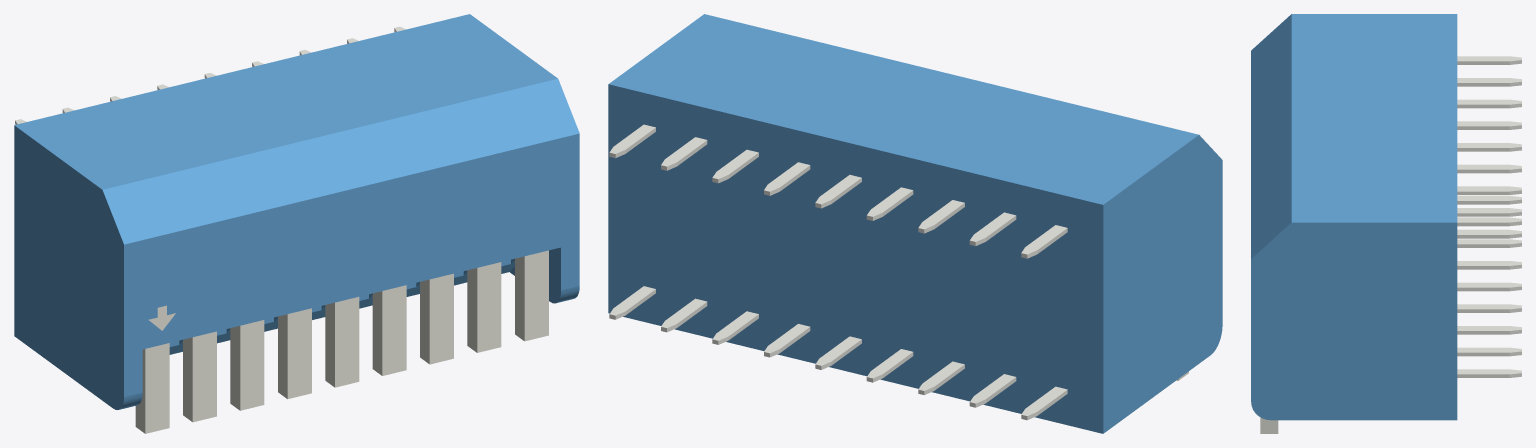
File: SW_DIP_SPSTx09_Piano_10.8x24.42mm_W7.62mm_P2.54mm.glb
3 views of the same model, side by side, from view 1: azimuth 30°, elevation 25°; view 2: azimuth 150°, elevation 25°; view 3: azimuth 270°, elevation 25° (orthographic). The views are drawn at different scales.
Parts seen in each view (by area): view 1: Shape_IndexedFaceSet.001, Shape_IndexedFaceSet.005, Shape_IndexedFaceSet.003, Shape_IndexedFaceSet.008, Shape_IndexedFaceSet.109, Shape_IndexedFaceSet.119, Shape_IndexedFaceSet.129, Shape_IndexedFaceSet.112, Shape_IndexedFaceSet.122, Shape_IndexedFaceSet.089, Shape_IndexedFaceSet.092, Shape_IndexedFaceSet.099 (+11 smaller); view 2: Shape_IndexedFaceSet.006, Shape_IndexedFaceSet.005, Shape_IndexedFaceSet.008; view 3: Shape_IndexedFaceSet, Shape_IndexedFaceSet.005, Shape_IndexedFaceSet.003, Shape_IndexedFaceSet.019, Shape_IndexedFaceSet.031, Shape_IndexedFaceSet.047, Shape_IndexedFaceSet.057, Shape_IndexedFaceSet.073, Shape_IndexedFaceSet.027, Shape_IndexedFaceSet.037, Shape_IndexedFaceSet.065, Shape_IndexedFaceSet.079 (+10 smaller).
Boxes of the visible parts, x1,y1,x2,y2 form: Shape_IndexedFaceSet.001: [124, 133, 579, 396]; Shape_IndexedFaceSet.005: [14, 14, 557, 189]; Shape_IndexedFaceSet.003: [102, 79, 579, 244]; Shape_IndexedFaceSet.008: [14, 125, 123, 409]; Shape_IndexedFaceSet.109: [429, 273, 453, 364]; Shape_IndexedFaceSet.119: [382, 285, 406, 375]; Shape_IndexedFaceSet.129: [335, 297, 359, 387]; Shape_IndexedFaceSet.112: [240, 320, 264, 410]; Shape_IndexedFaceSet.122: [287, 308, 311, 398]; Shape_IndexedFaceSet.089: [524, 250, 548, 341]; Shape_IndexedFaceSet.092: [145, 343, 169, 433]; Shape_IndexedFaceSet.099: [477, 262, 501, 352]; Shape_IndexedFaceSet.006: [608, 84, 1103, 433]; Shape_IndexedFaceSet.005: [608, 14, 1198, 204]; Shape_IndexedFaceSet.008: [1103, 135, 1222, 433]; Shape_IndexedFaceSet: [1251, 222, 1457, 420]; Shape_IndexedFaceSet.005: [1291, 14, 1457, 222]; Shape_IndexedFaceSet.003: [1251, 14, 1291, 258]; Shape_IndexedFaceSet.019: [1457, 282, 1521, 287]; Shape_IndexedFaceSet.031: [1457, 369, 1521, 374]; Shape_IndexedFaceSet.047: [1457, 186, 1521, 191]; Shape_IndexedFaceSet.057: [1457, 121, 1521, 126]; Shape_IndexedFaceSet.073: [1457, 217, 1521, 222]; Shape_IndexedFaceSet.027: [1457, 304, 1521, 309]; Shape_IndexedFaceSet.037: [1457, 347, 1521, 352]; Shape_IndexedFaceSet.065: [1457, 99, 1521, 104]; Shape_IndexedFaceSet.079: [1457, 56, 1521, 61].
Size of the model in its own units: 9.61 by 4.8 by 5.28.
